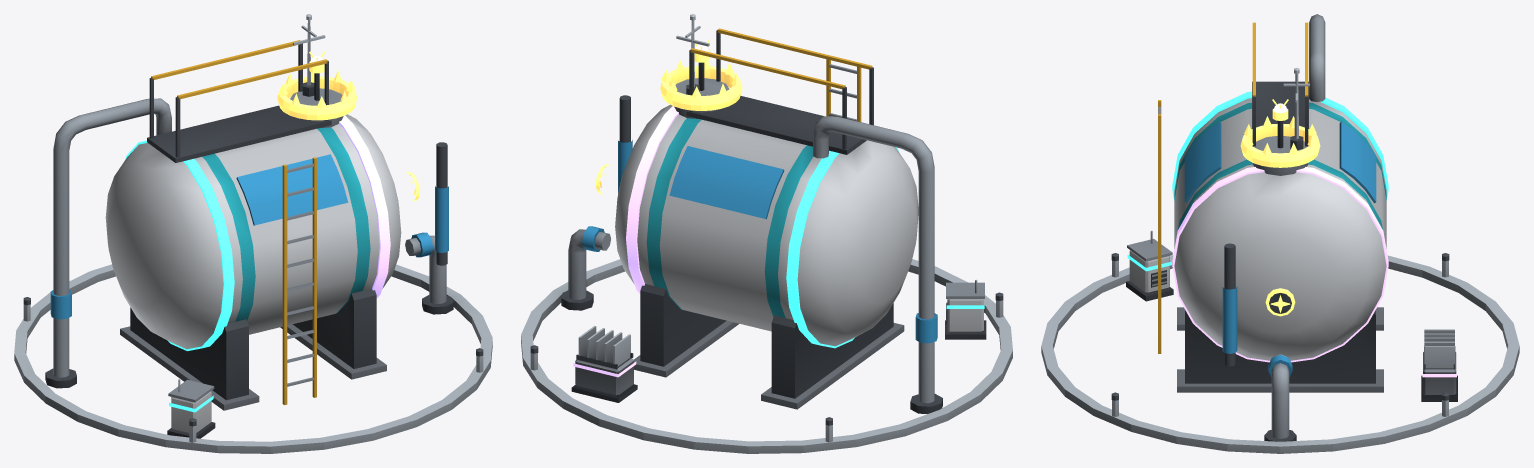
File: reservoir_m.glb
3 views of the same model, side by side, from view 1: azimuth 30°, elevation 25°; view 2: azimuth 150°, elevation 25°; view 3: azimuth 270°, elevation 25° (orthographic). The views are drawn at different scales.
Parts seen in each view (by area): view 1: Base, L2, L3, L5, L4; view 2: Base, L2, L4, L3, L5; view 3: Base, L2, L4, L3, L5.
Part boxes in pixels (bbox=[...]): Base: bbox=[45, 40, 453, 410]; L2: bbox=[14, 14, 492, 453]; L3: bbox=[125, 140, 234, 438]; L5: bbox=[277, 51, 419, 201]; L4: bbox=[339, 115, 390, 298]; Base: bbox=[561, 28, 942, 413]; L2: bbox=[521, 14, 1012, 453]; L4: bbox=[571, 106, 678, 402]; L3: bbox=[786, 147, 986, 348]; L5: bbox=[595, 40, 742, 194]; Base: bbox=[1158, 14, 1386, 441]; L2: bbox=[1041, 68, 1519, 453]; L4: bbox=[1172, 167, 1457, 401]; L3: bbox=[1126, 91, 1388, 301]; L5: bbox=[1240, 99, 1320, 316].
Bounding box in the file's own units: 5.86 × 4.28 × 5.86.
